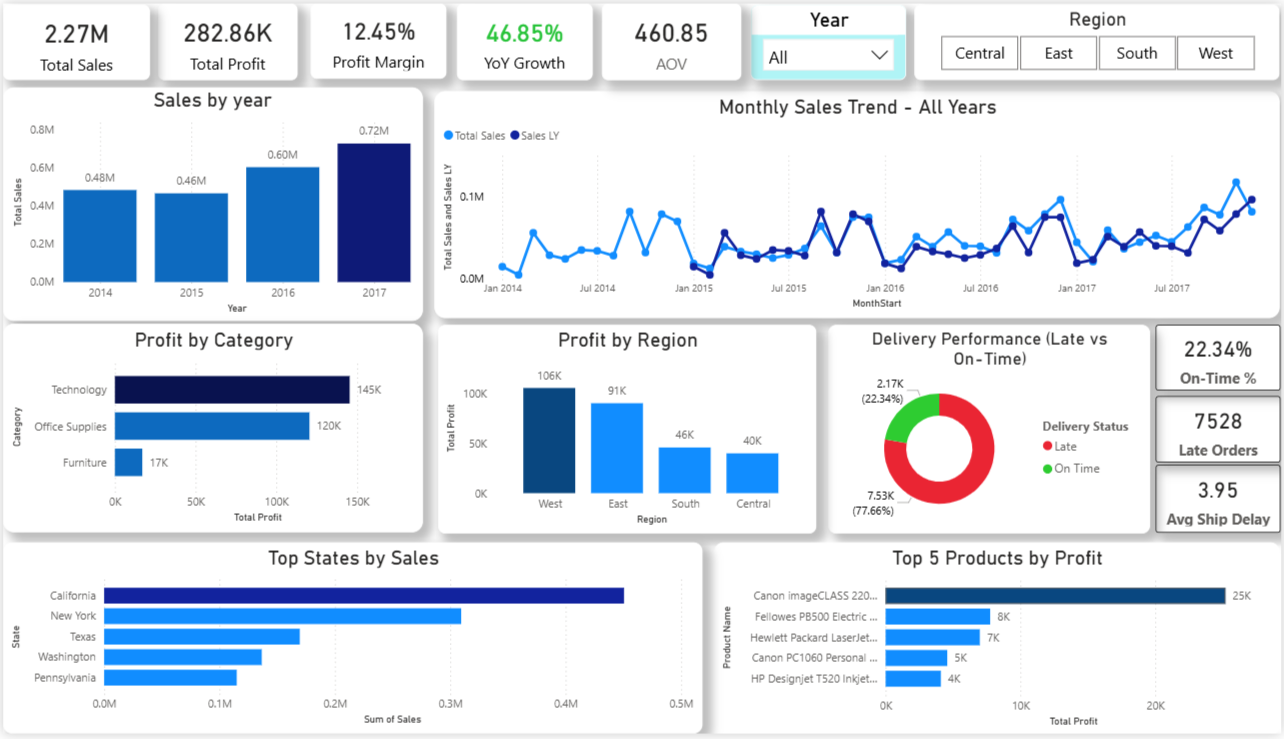

What the dashboard file says about the page in this screenshot:
{"tool":"powerbi","page":{"name":"Page 1","canvas":[1400,800],"ordinal":0},"visuals":[{"type":"card","fields":{"Values":["ecommerce sales.Total Profit"]},"box":[170.4,0,152.8,83.8],"z":0},{"type":"card","fields":{"Values":["ecommerce sales.Profit Margin %"]},"box":[336.7,0,148.7,82.5],"z":1000},{"type":"card","fields":{"Values":["ecommerce sales.Total Sales"]},"box":[0,1.4,160.9,82.5],"z":2000},{"type":"card","fields":{"Values":["Date Table.YoY Growth %"]},"box":[497.6,0,148.7,83.8],"z":3000},{"type":"clusteredColumnChart","title":"Sales by year","fields":{"Category":["Date Table.Year"],"Y":["ecommerce sales.Total Sales"]},"box":[0,91.6,460.4,255.6],"z":4000},{"type":"lineChart","fields":{"Y":["ecommerce sales.Total Sales","Date Table.Sales LY"],"Category":["Date Table.MonthStart"]},"box":[473.2,96,926.2,248.8],"z":5000},{"type":"slicer","title":"Year","fields":{"Values":["Date Table.Year"]},"box":[819.4,1.4,170.4,82.5],"z":6000},{"type":"barChart","title":"Profit by Category","fields":{"Category":["ecommerce sales.Category"],"Y":["ecommerce sales.Total Profit"]},"box":[0,351,460.4,228.9],"z":7000},{"type":"card","fields":{"Values":["ecommerce sales.Avg Ship Delay"]},"box":[1262.9,505.7,136.6,74.4],"z":8000},{"type":"card","fields":{"Values":["ecommerce sales.Late Orders"]},"box":[1262.9,430,136.6,73],"z":9000},{"type":"card","fields":{"Values":["ecommerce sales.On-Time %"]},"box":[1262.9,351.5,136.6,71.7],"z":10000},{"type":"donutChart","title":"Delivery Performance (Late vs On-Time)","fields":{"Category":["ecommerce sales.Delivery Status"],"Y":["CountNonNull(ecommerce sales.Order ID)"]},"box":[904.6,351.5,352.9,228.5],"z":11000},{"type":"lineChart","title":"Late Orders Trend","fields":{"Y":["ecommerce sales.Late %"],"Category":["ecommerce sales.YearMonthDate"]},"box":[0,590.1,878.4,210.1],"z":12000},{"type":"slicer","title":"Region","fields":{"Values":["ecommerce sales.Region"]},"box":[1141.9,803.4,826.1,237.5],"z":13000},{"type":"clusteredColumnChart","title":"Profit by Region","fields":{"Y":["ecommerce sales.Total Profit"],"Category":["ecommerce sales.Region"]},"box":[476.5,351.9,414.2,228.5],"z":14000},{"type":"card","fields":{"Values":["ecommerce sales.AOV"]},"box":[655.8,0,152.8,83.8],"z":15000},{"type":"clusteredBarChart","title":"Top 5 Products by Profit","fields":{"Category":["ecommerce sales.Product Name"],"Y":["ecommerce sales.Total Profit"]},"box":[891,589.5,508.4,210.9],"z":16000},{"type":"slicer","title":"Region","fields":{"Values":["ecommerce sales.Region"]},"box":[999.2,1.4,400.2,82.5],"z":17000}]}

Visuals, with their boxes in screenshot pixels (x1, y1, x2, y2), scaled from the page's 1400x800 canvas onto the 1284x739 screenshot:
card - ecommerce sales.Total Profit: region(156, 0, 296, 77)
card - ecommerce sales.Profit Margin %: region(309, 0, 445, 76)
card - ecommerce sales.Total Sales: region(0, 1, 148, 78)
card - Date Table.YoY Growth %: region(456, 0, 593, 77)
"Sales by year" clusteredColumnChart: region(0, 85, 422, 321)
lineChart - ecommerce sales.Total Sales x Date Table.Sales LY: region(434, 89, 1283, 319)
"Year" slicer: region(752, 1, 908, 78)
"Profit by Category" barChart: region(0, 324, 422, 536)
card - ecommerce sales.Avg Ship Delay: region(1158, 467, 1283, 536)
card - ecommerce sales.Late Orders: region(1158, 397, 1283, 465)
card - ecommerce sales.On-Time %: region(1158, 325, 1283, 391)
"Delivery Performance (Late vs On-Time)" donutChart: region(830, 325, 1153, 536)
"Late Orders Trend" lineChart: region(0, 545, 806, 738)
"Profit by Region" clusteredColumnChart: region(437, 325, 817, 536)
card - ecommerce sales.AOV: region(601, 0, 742, 77)
"Top 5 Products by Profit" clusteredBarChart: region(817, 545, 1283, 738)
"Region" slicer: region(916, 1, 1283, 78)
